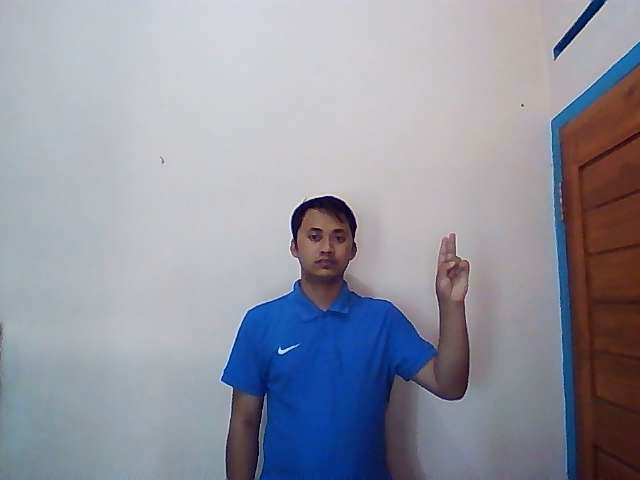U: (435, 230, 471, 298)
